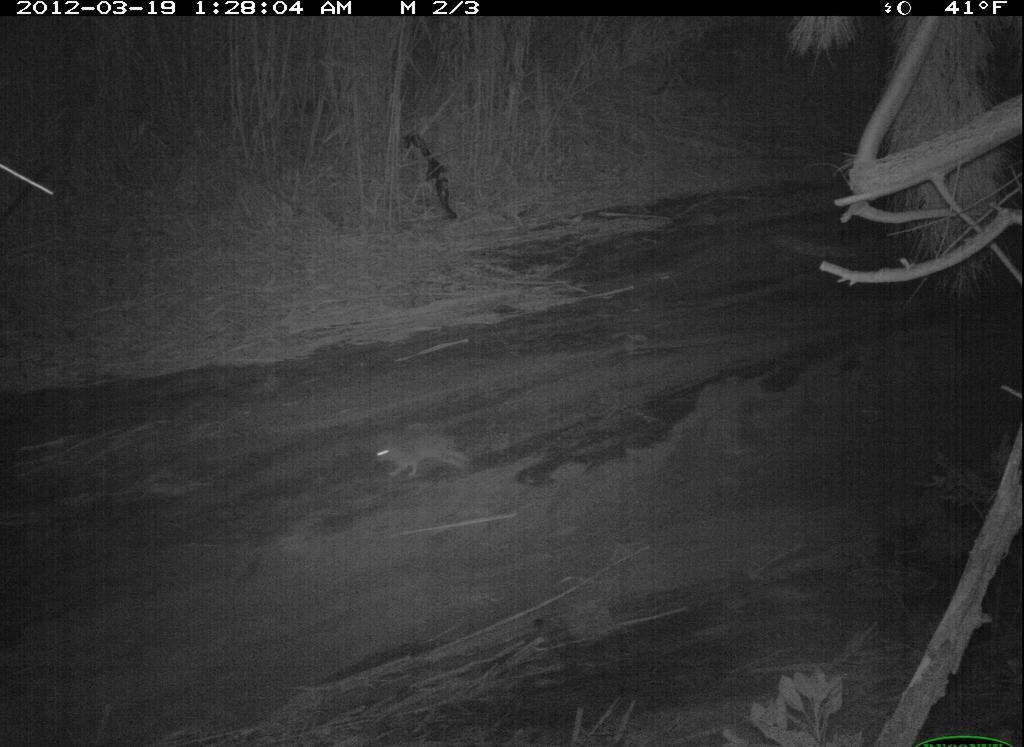rabbit: (347, 410, 486, 495)
